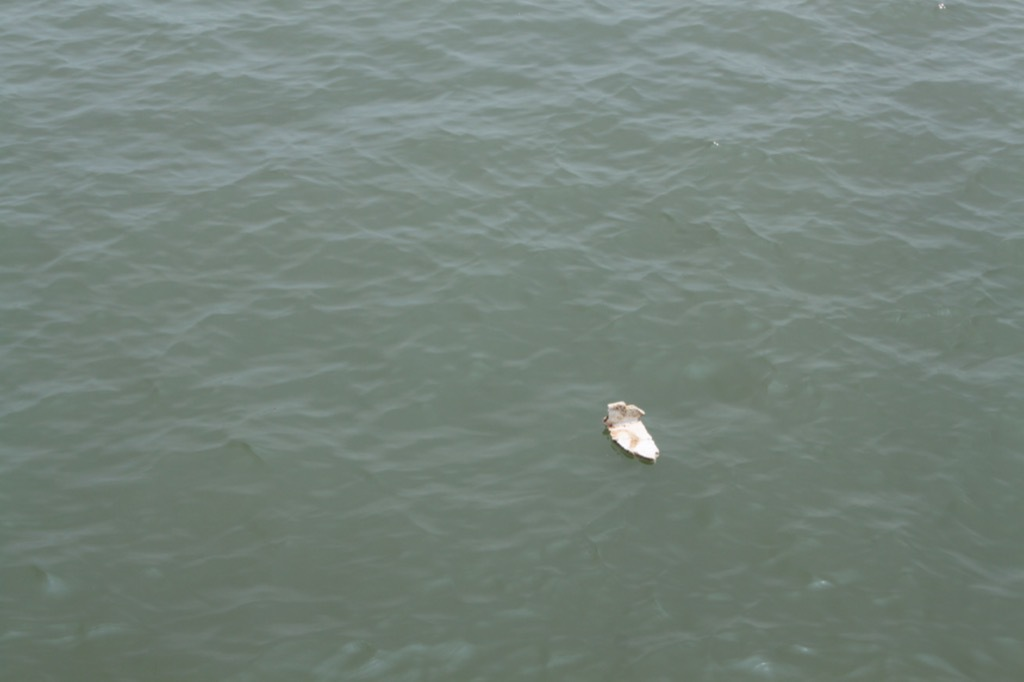plastic: (589, 391, 676, 483)
